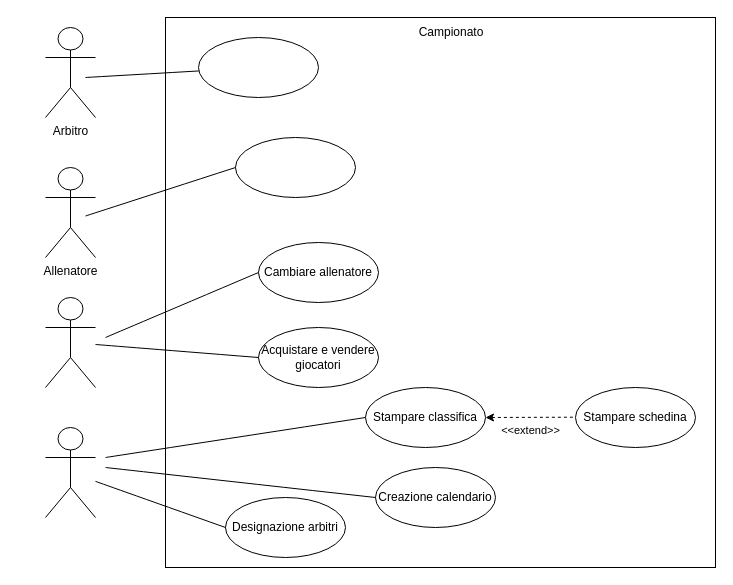
This 733x585 diagram has some shape labels left out. The box of each missing label's shape, as (x1, y1, x2, y2) in pixels:
Convocare giocatori: (234, 136, 356, 198)
FIGC: (44, 426, 96, 518)
Memorizzare risultato: (198, 36, 318, 98)
Presidenza squadra: (44, 296, 96, 388)
